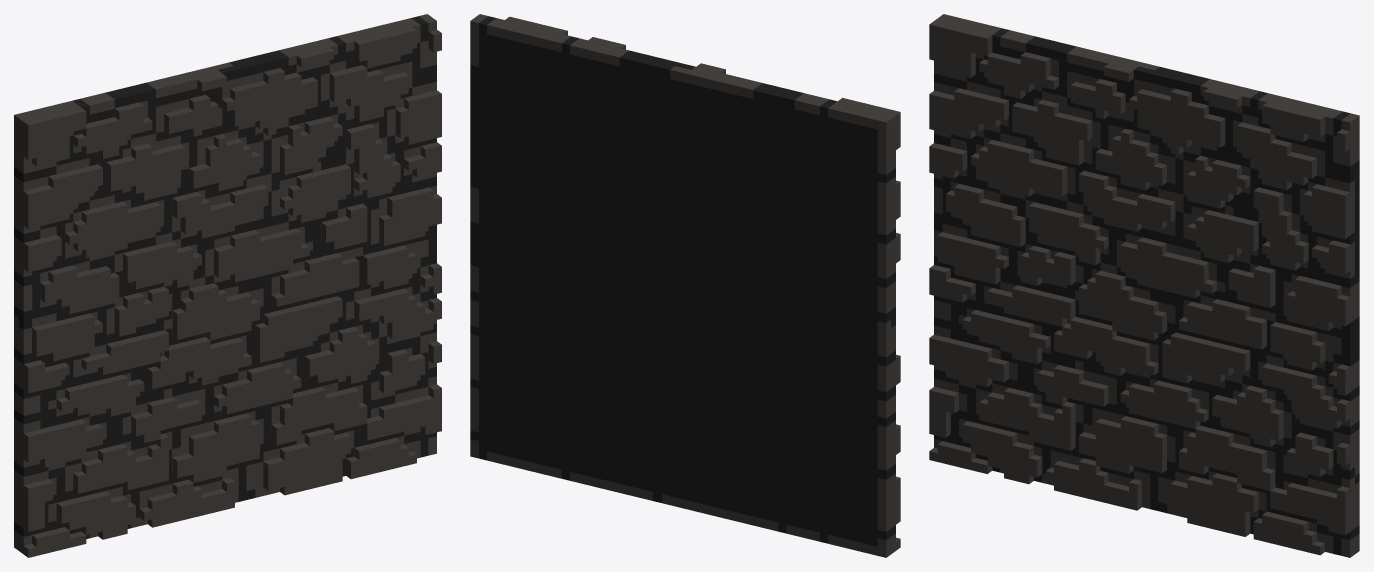
The model's file is CatacombsWallR.fbx.
The picture shows the model from 3 angles, left to right: view 1: azimuth 30°, elevation 25°; view 2: azimuth 150°, elevation 25°; view 3: azimuth 330°, elevation 25°; orthographic projection.
Visible parts, largest first — view 1: CatacombsWallR; view 2: CatacombsWallR; view 3: CatacombsWallR.
Boxes of the visible parts, x1,y1,x2,y2 form: CatacombsWallR: [14, 14, 441, 557]; CatacombsWallR: [470, 14, 900, 557]; CatacombsWallR: [929, 14, 1359, 557].
Bounding box in the file's own units: 500 × 500 × 30.
1 material, 1 textured.
